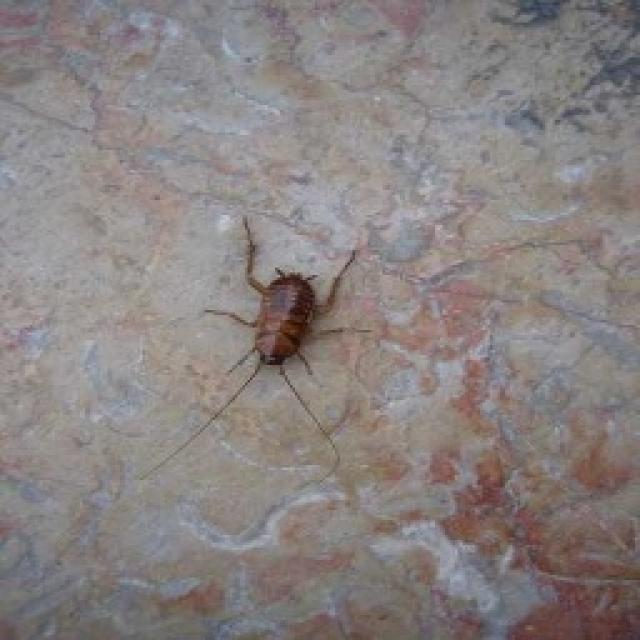cockroach: (220, 237, 344, 408)
